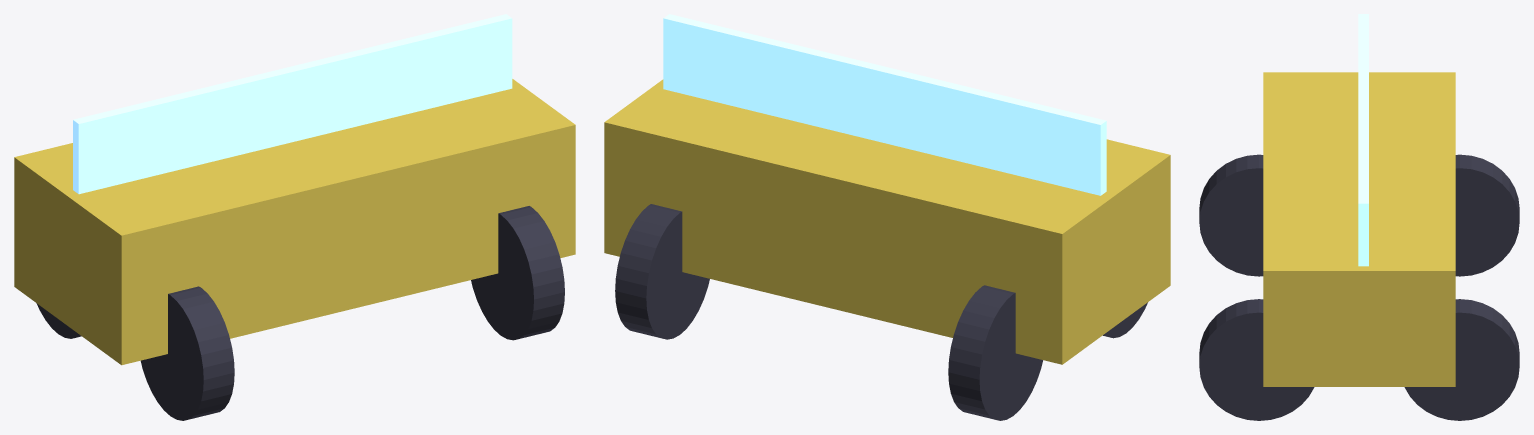
Rendered from bus.glb.
3 renders of one model, left to right at view 1: azimuth 30°, elevation 25°; view 2: azimuth 150°, elevation 25°; view 3: azimuth 270°, elevation 25°, orthographic. The views are drawn at different scales.
Parts seen in each view (by area): view 1: bus_body, bus_window.001, bus_wheel.002, bus_wheel.003; view 2: bus_body, bus_window.001, bus_wheel, bus_wheel.001; view 3: bus_body, bus_wheel, bus_wheel.002, bus_wheel.001, bus_wheel.003, bus_window.001.
Part boxes in pixels (box(x1,y1,x2,y2)): bus_body: box(14, 79, 575, 365); bus_window.001: box(73, 14, 512, 194); bus_wheel.002: box(471, 206, 564, 340); bus_wheel.003: box(140, 286, 234, 420); bus_body: box(604, 79, 1170, 364); bus_window.001: box(663, 14, 1106, 195); bus_wheel: box(615, 204, 709, 339); bus_wheel.001: box(948, 285, 1042, 420); bus_body: box(1263, 72, 1455, 386); bus_wheel: box(1404, 299, 1519, 420); bus_wheel.002: box(1199, 299, 1314, 420); bus_wheel.001: box(1455, 154, 1519, 276); bus_wheel.003: box(1199, 154, 1263, 276); bus_window.001: box(1358, 14, 1368, 266).
Bounding box in the file's own units: 2.2 × 1.2 × 1.5.
